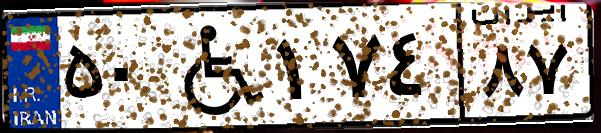0: (110, 28, 158, 98)
1: (270, 28, 330, 110)
4: (385, 28, 445, 110)
5: (57, 26, 110, 100)
7: (330, 28, 385, 110), (525, 38, 570, 115)
8: (475, 38, 525, 113)
ژ (معلولین و جانبازان): (158, 12, 270, 120)
